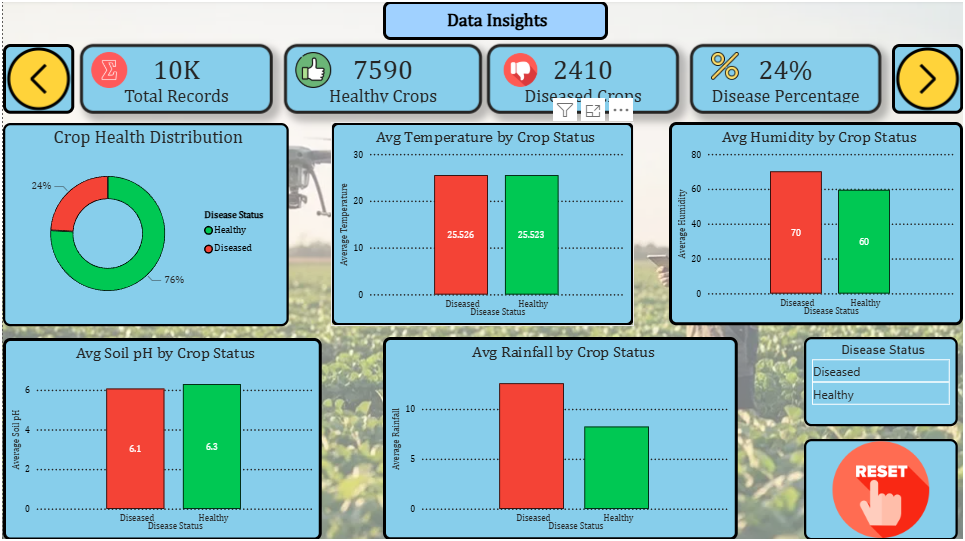

What the dashboard file says about the page in this screenshot:
{"tool":"powerbi","page":{"name":"main","canvas":[1280,720],"ordinal":1},"visuals":[{"type":"advanceCardE03760C5AB684758B56AA29F9E6C257B","fields":{"mainMeasure":["plant_disease_powerbi_export.Healthy Crops"]},"box":[374.2,58.7,264,93.3],"z":0},{"type":"advanceCardE03760C5AB684758B56AA29F9E6C257B","fields":{"mainMeasure":["plant_disease_powerbi_export.Total Records"]},"box":[102.7,58.7,257.3,93.3],"z":1000},{"type":"advanceCardE03760C5AB684758B56AA29F9E6C257B","fields":{"mainMeasure":["plant_disease_powerbi_export.Diseased Crops"]},"box":[645.3,58.7,256,93.3],"z":2000},{"type":"advanceCardE03760C5AB684758B56AA29F9E6C257B","fields":{"mainMeasure":["plant_disease_powerbi_export.Disease Percentage"]},"box":[916,58.7,254.7,93.3],"z":3000},{"type":"donutChart","title":"Crop Health Distribution","fields":{"Y":["CountNonNull(plant_disease_powerbi_export.disease_present)"],"Category":["plant_disease_powerbi_export.Disease Status"]},"box":[0,164,381.3,270.7],"z":4000},{"type":"clusteredColumnChart","title":"Avg Temperature by Crop Status","fields":{"Category":["plant_disease_powerbi_export.Disease Status"],"Y":["plant_disease_powerbi_export.Average Temperature"]},"box":[437.3,162.7,404,272],"z":5000},{"type":"clusteredColumnChart","title":"Avg Humidity by Crop Status","fields":{"Category":["plant_disease_powerbi_export.Disease Status"],"Y":["plant_disease_powerbi_export.Average Humidity"]},"box":[888,162.7,392,270.7],"z":6000},{"type":"image","box":[0,58.7,94.7,93.3],"z":7000},{"type":"image","box":[1068,585.3,205.3,134.7],"z":8000},{"type":"clusteredColumnChart","title":"Avg Soil pH by Crop Status","fields":{"Category":["plant_disease_powerbi_export.Disease Status"],"Y":["plant_disease_powerbi_export.Average Soil pH"]},"box":[0,450.1,425.3,269.8],"z":9000},{"type":"clusteredColumnChart","title":"Avg Rainfall by Crop Status","fields":{"Category":["plant_disease_powerbi_export.Disease Status"],"Y":["plant_disease_powerbi_export.Average Rainfall"]},"box":[506.5,448.7,473.5,271.1],"z":10000},{"type":"listSlicer","fields":{"Values":["plant_disease_powerbi_export.Disease Status"]},"box":[1068,449.3,205.3,118.7],"z":11000},{"type":"image","box":[1185.3,58.7,94.7,93.3],"z":13000},{"type":"textbox","box":[506.7,1.3,300,52],"z":14000},{"type":"image","box":[927.7,68.8,68.8,37.2],"z":14001},{"type":"image","box":[351,68.8,126.6,48.2],"z":14002},{"type":"image","box":[656.5,68.8,67.4,48.2],"z":14003},{"type":"image","box":[103.2,68.8,78.5,48.2],"z":14004}]}

Visuals, with their boxes in screenshot pixels (x1, y1, x2, y2), scaled from the page's 1280x720 canvas onto the 965x541 screenshot:
advanceCardE03760C5AB684758B56AA29F9E6C257B - plant_disease_powerbi_export.Healthy Crops: [left=282, top=44, right=481, bottom=114]
advanceCardE03760C5AB684758B56AA29F9E6C257B - plant_disease_powerbi_export.Total Records: [left=77, top=44, right=271, bottom=114]
advanceCardE03760C5AB684758B56AA29F9E6C257B - plant_disease_powerbi_export.Diseased Crops: [left=486, top=44, right=679, bottom=114]
advanceCardE03760C5AB684758B56AA29F9E6C257B - plant_disease_powerbi_export.Disease Percentage: [left=691, top=44, right=883, bottom=114]
"Crop Health Distribution" donutChart: [left=0, top=123, right=287, bottom=327]
"Avg Temperature by Crop Status" clusteredColumnChart: [left=330, top=122, right=634, bottom=327]
"Avg Humidity by Crop Status" clusteredColumnChart: [left=669, top=122, right=964, bottom=326]
image: [left=0, top=44, right=71, bottom=114]
image: [left=805, top=440, right=960, bottom=540]
"Avg Soil pH by Crop Status" clusteredColumnChart: [left=0, top=338, right=321, bottom=540]
"Avg Rainfall by Crop Status" clusteredColumnChart: [left=382, top=337, right=739, bottom=540]
listSlicer - plant_disease_powerbi_export.Disease Status: [left=805, top=338, right=960, bottom=427]
image: [left=894, top=44, right=964, bottom=114]
textbox: [left=382, top=1, right=608, bottom=40]
image: [left=699, top=52, right=751, bottom=80]
image: [left=265, top=52, right=360, bottom=88]
image: [left=495, top=52, right=546, bottom=88]
image: [left=78, top=52, right=137, bottom=88]
